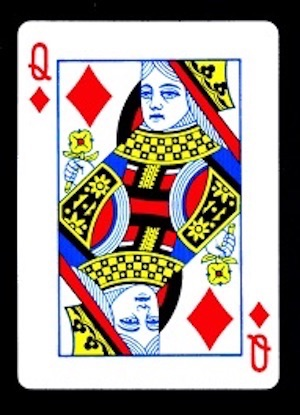QueenOfDiamonds: (7, 11, 287, 397)
